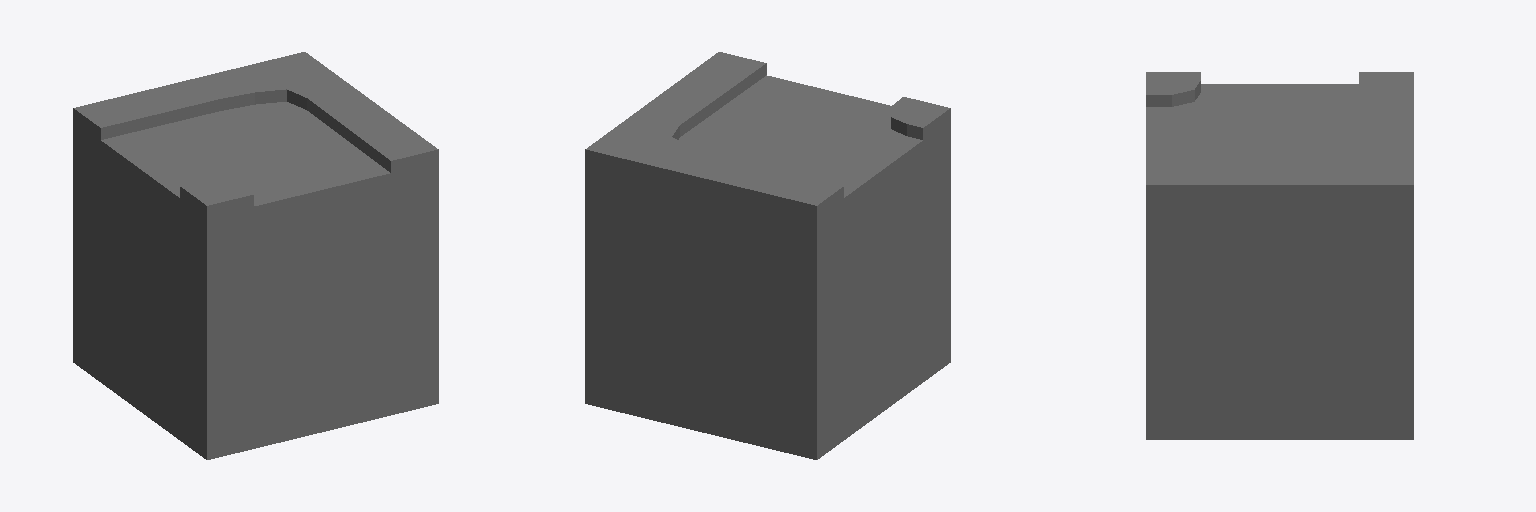
File: road2.obj
3 views of the same model, side by side, from view 1: azimuth 30°, elevation 25°; view 2: azimuth 150°, elevation 25°; view 3: azimuth 270°, elevation 25° (orthographic).
Parts seen in each view (by area): view 1: road2; view 2: road2; view 3: road2.
Part boxes in pixels (bbox=[...]): road2: bbox=[73, 52, 438, 459]; road2: bbox=[585, 52, 950, 459]; road2: bbox=[1146, 72, 1413, 439].
Bounding box in the file's own units: 2 × 2.1 × 2.